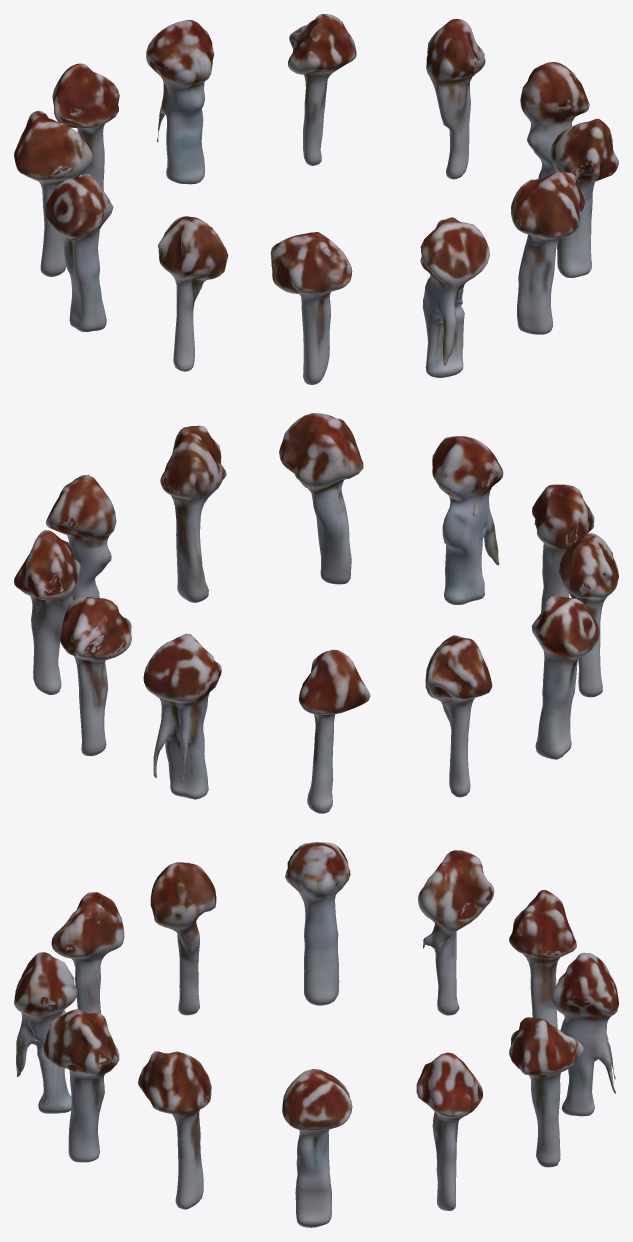
Rendered from a68080c9eb91_symbolizes_ritualis.fbx.
The picture shows the model from 3 angles, top to bottom: view 1: azimuth 30°, elevation 25°; view 2: azimuth 150°, elevation 25°; view 3: azimuth 270°, elevation 25°; orthographic projection. The views are drawn at different scales.
Parts seen in each view (by area): view 1: mesh; view 2: mesh; view 3: mesh.
Part boxes in pixels (x1,y1,x2,y2): mesh: [14, 14, 618, 384]; mesh: [14, 413, 618, 813]; mesh: [14, 842, 618, 1227].
Bounding box in the file's own units: 99.93 × 29.51 × 99.58.
